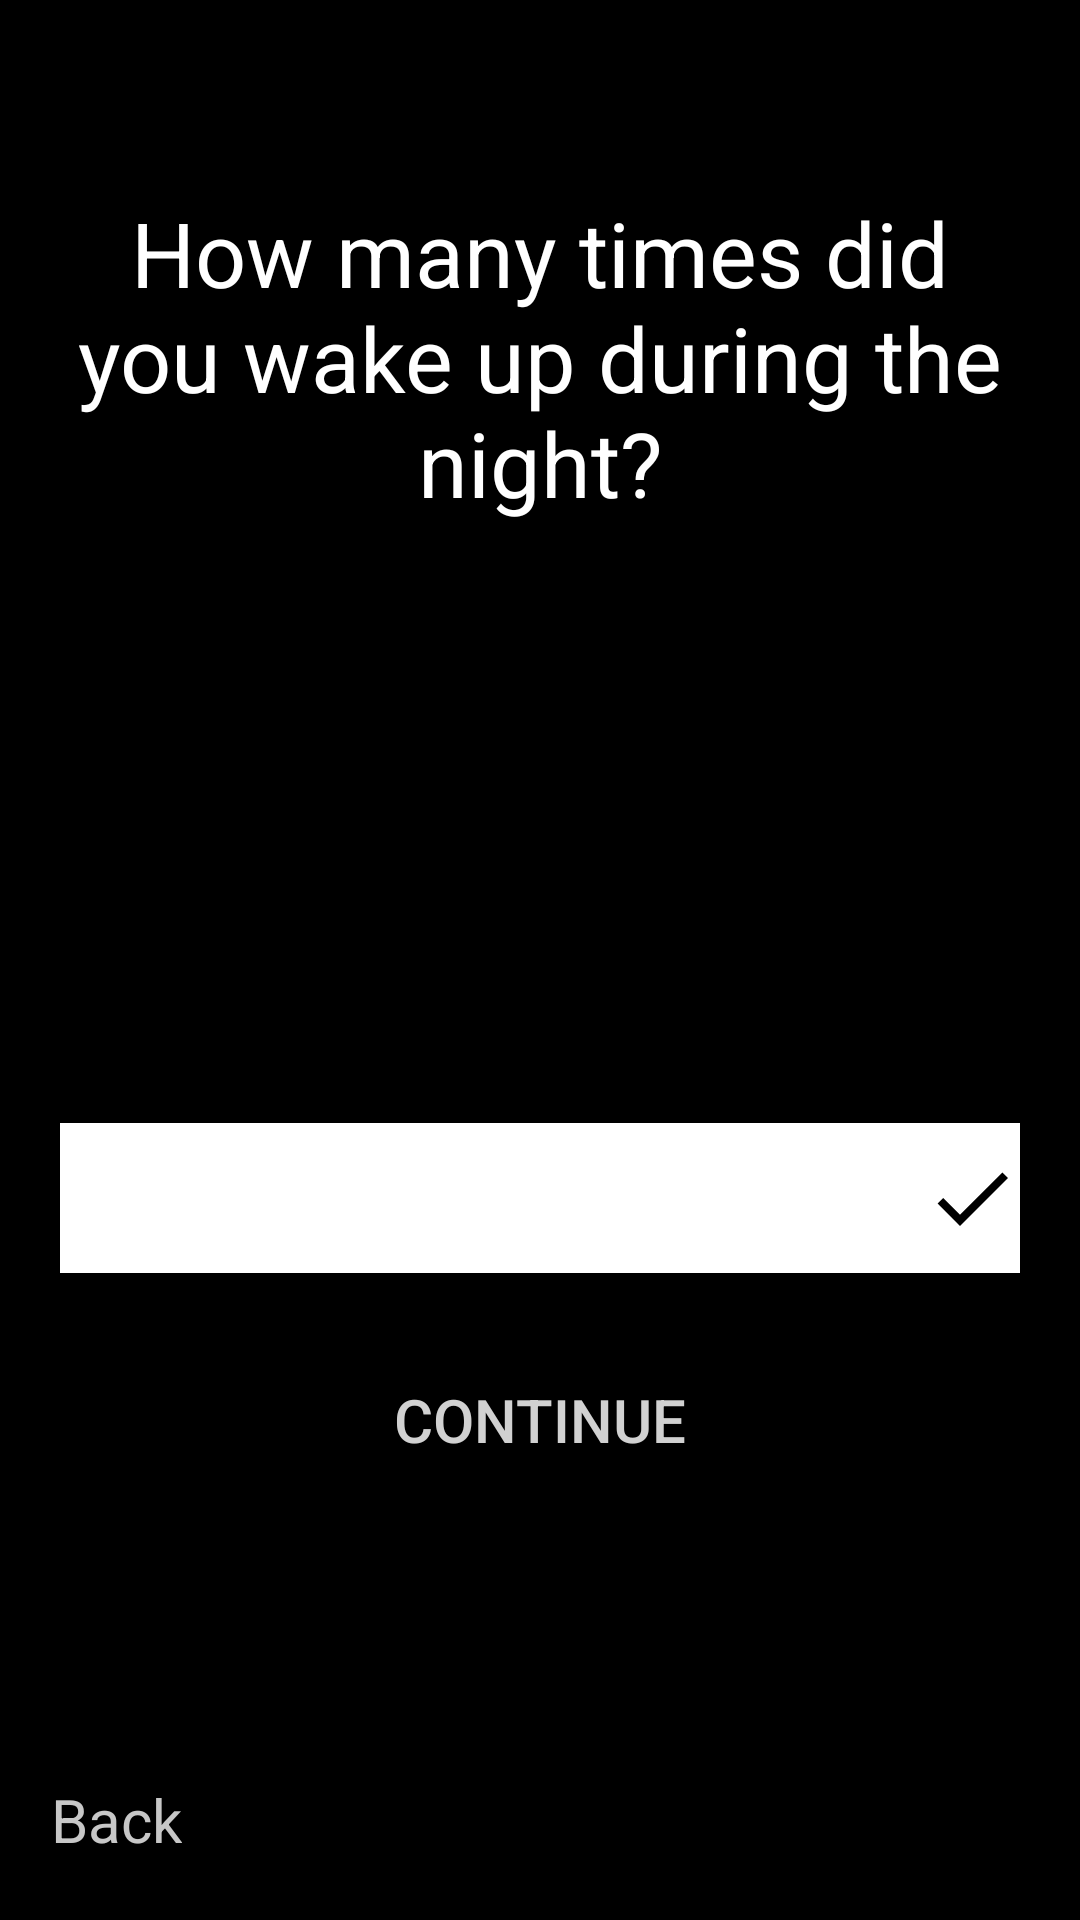

Screen size 1080x1920. Icon name, then its box in pixels as [x1, y1, x2, y2]:
done: [937, 1172, 1008, 1226]
